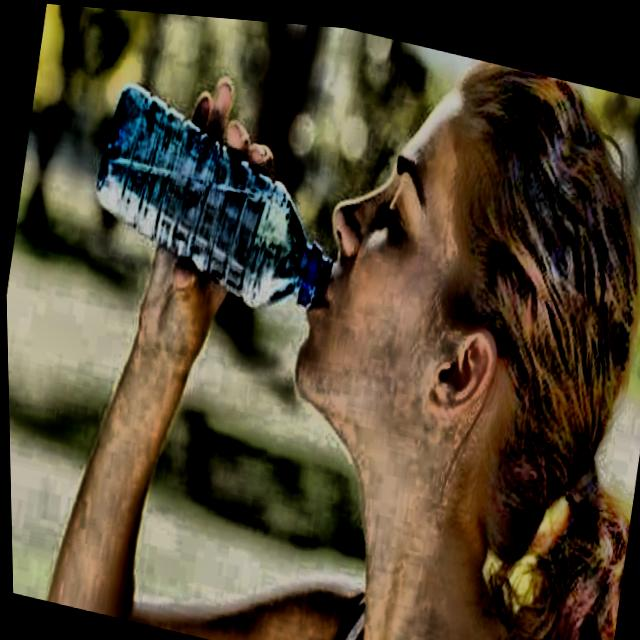Bottles: (68, 53, 359, 331)
